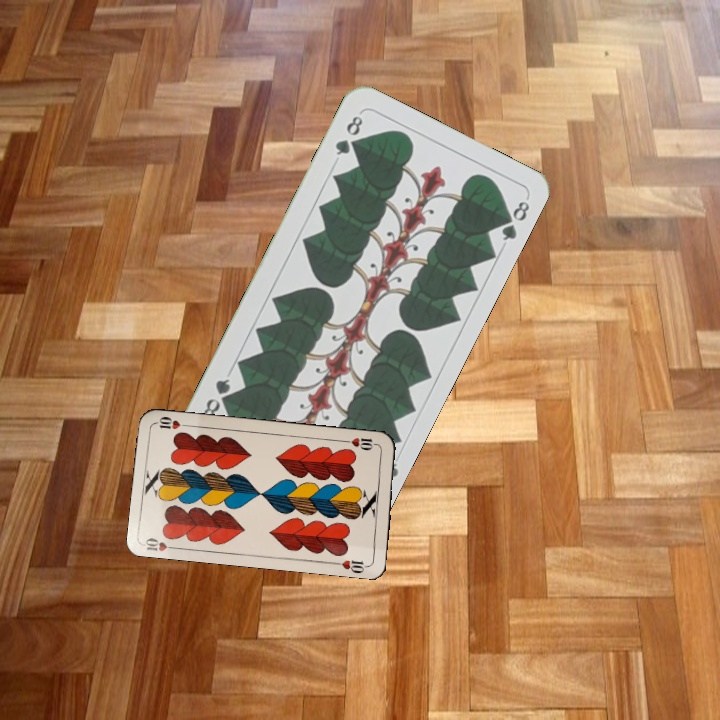G8: (331, 111, 366, 158)
H10: (140, 533, 181, 554), (341, 434, 381, 453)
